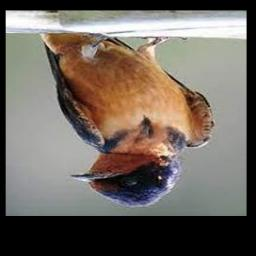Swallow: (40, 33, 216, 209)
